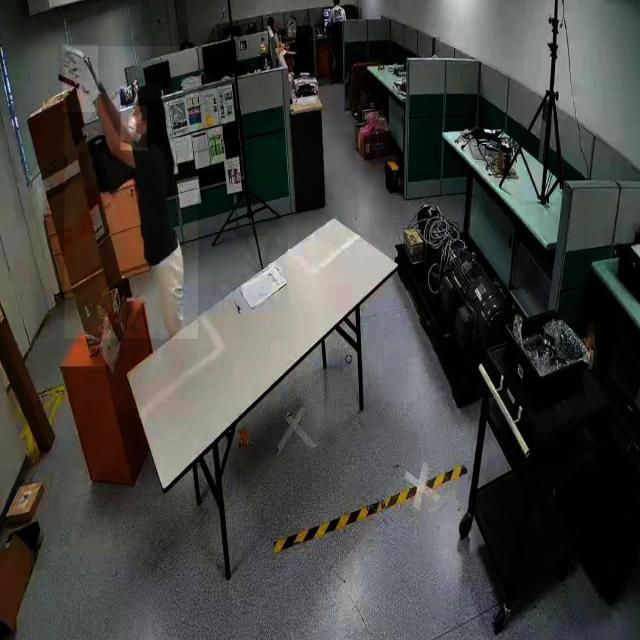face_mask: (121, 106, 147, 150)
hand_glove: (62, 44, 98, 113)
head_nohelmet: (132, 82, 164, 100)
person: (64, 46, 198, 340)
